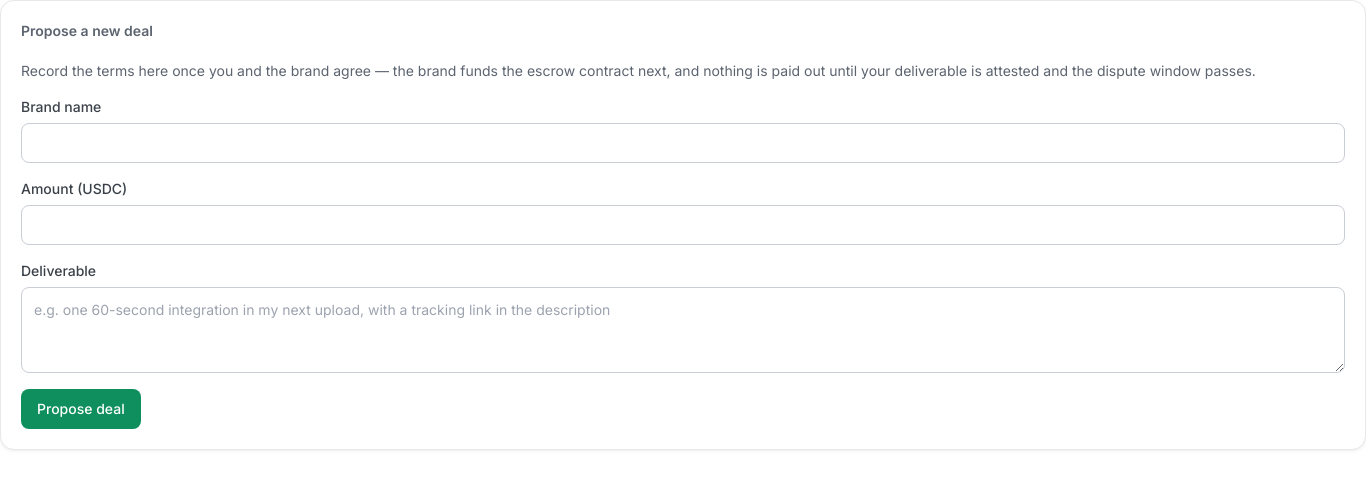
Test: SponsorshipDealForm › shows a generic error when the request fails
This screenshot has width=1366, height=504.
Type "Acme" into the field labelled "Brand name".
click(683, 143); type("Acme")  # box [21, 123, 1345, 163]
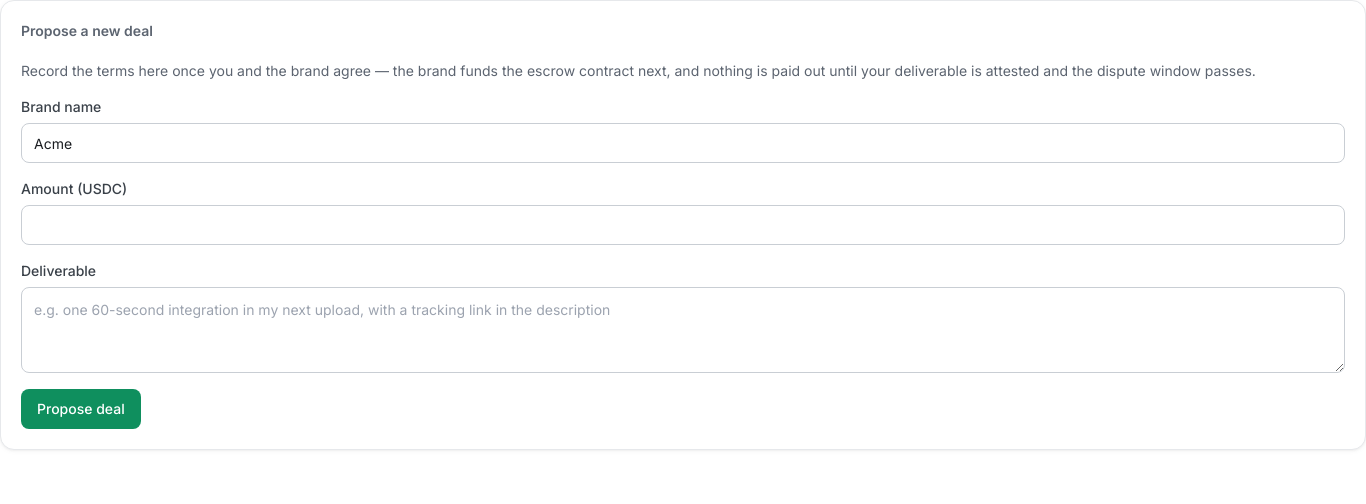
Type "200" into the number field labelled "Amount (USDC)".
click(683, 225); type("200")  # box [21, 205, 1345, 245]
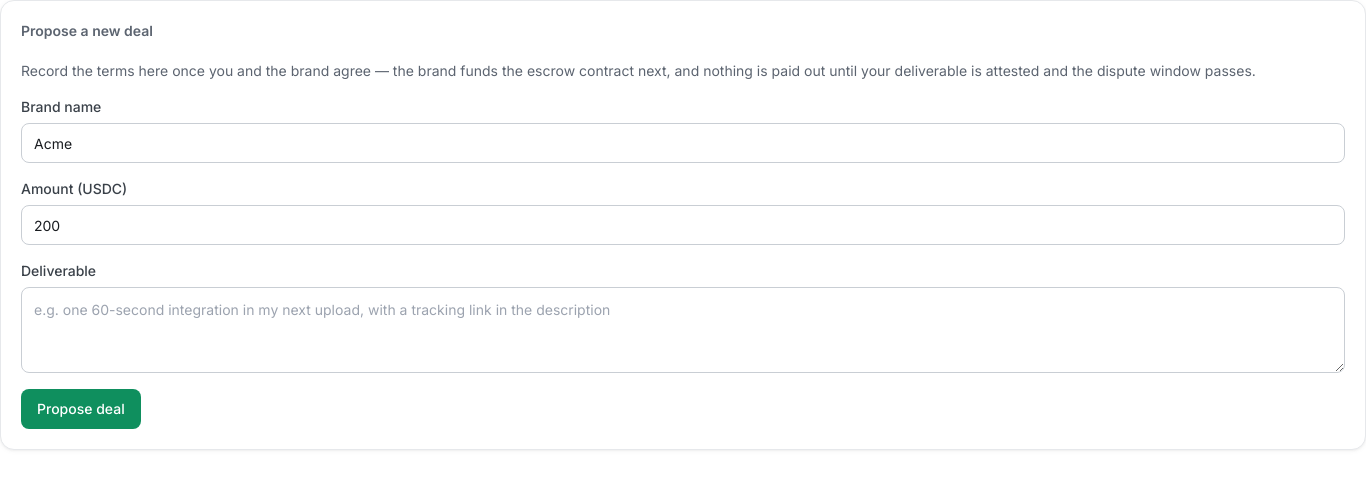
Replace the text in the text box labelled "Deliverable" with "One integration" at x=683, y=330, box [21, 287, 1345, 373]
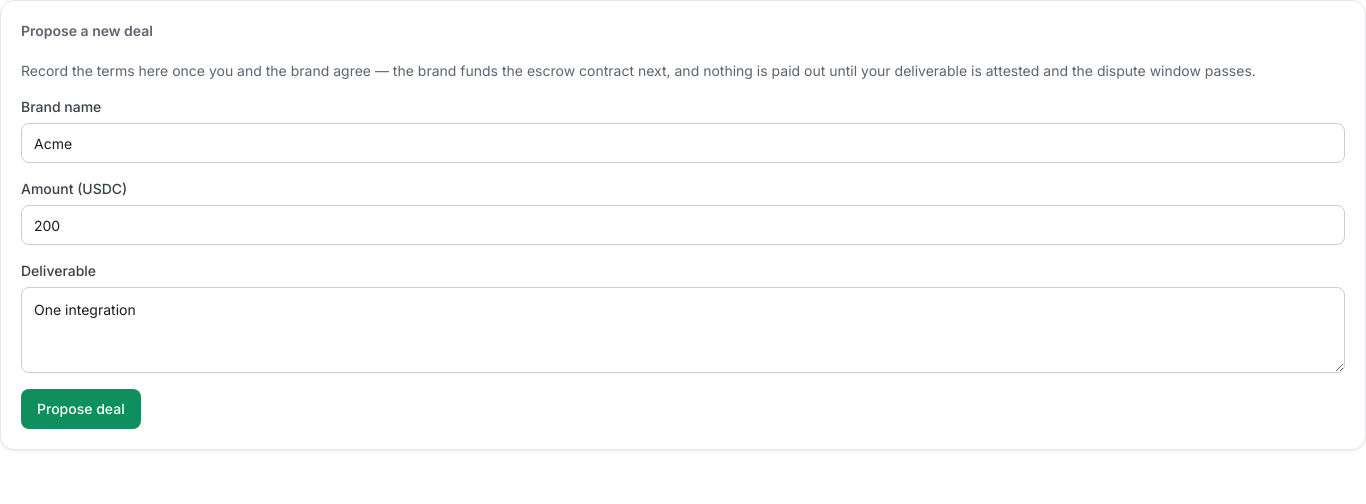
Click the button "Propose deal".
click(81, 409)  # box [21, 389, 141, 429]
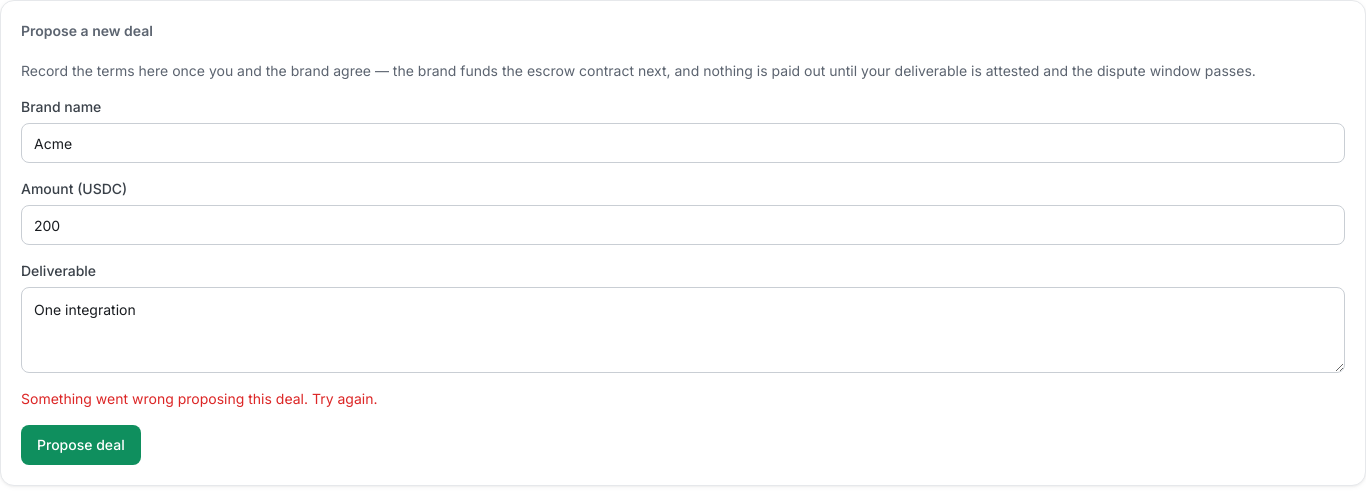
Now the text "Something went wrong proposing this deal. Try again." is shown, box [21, 390, 378, 407]
